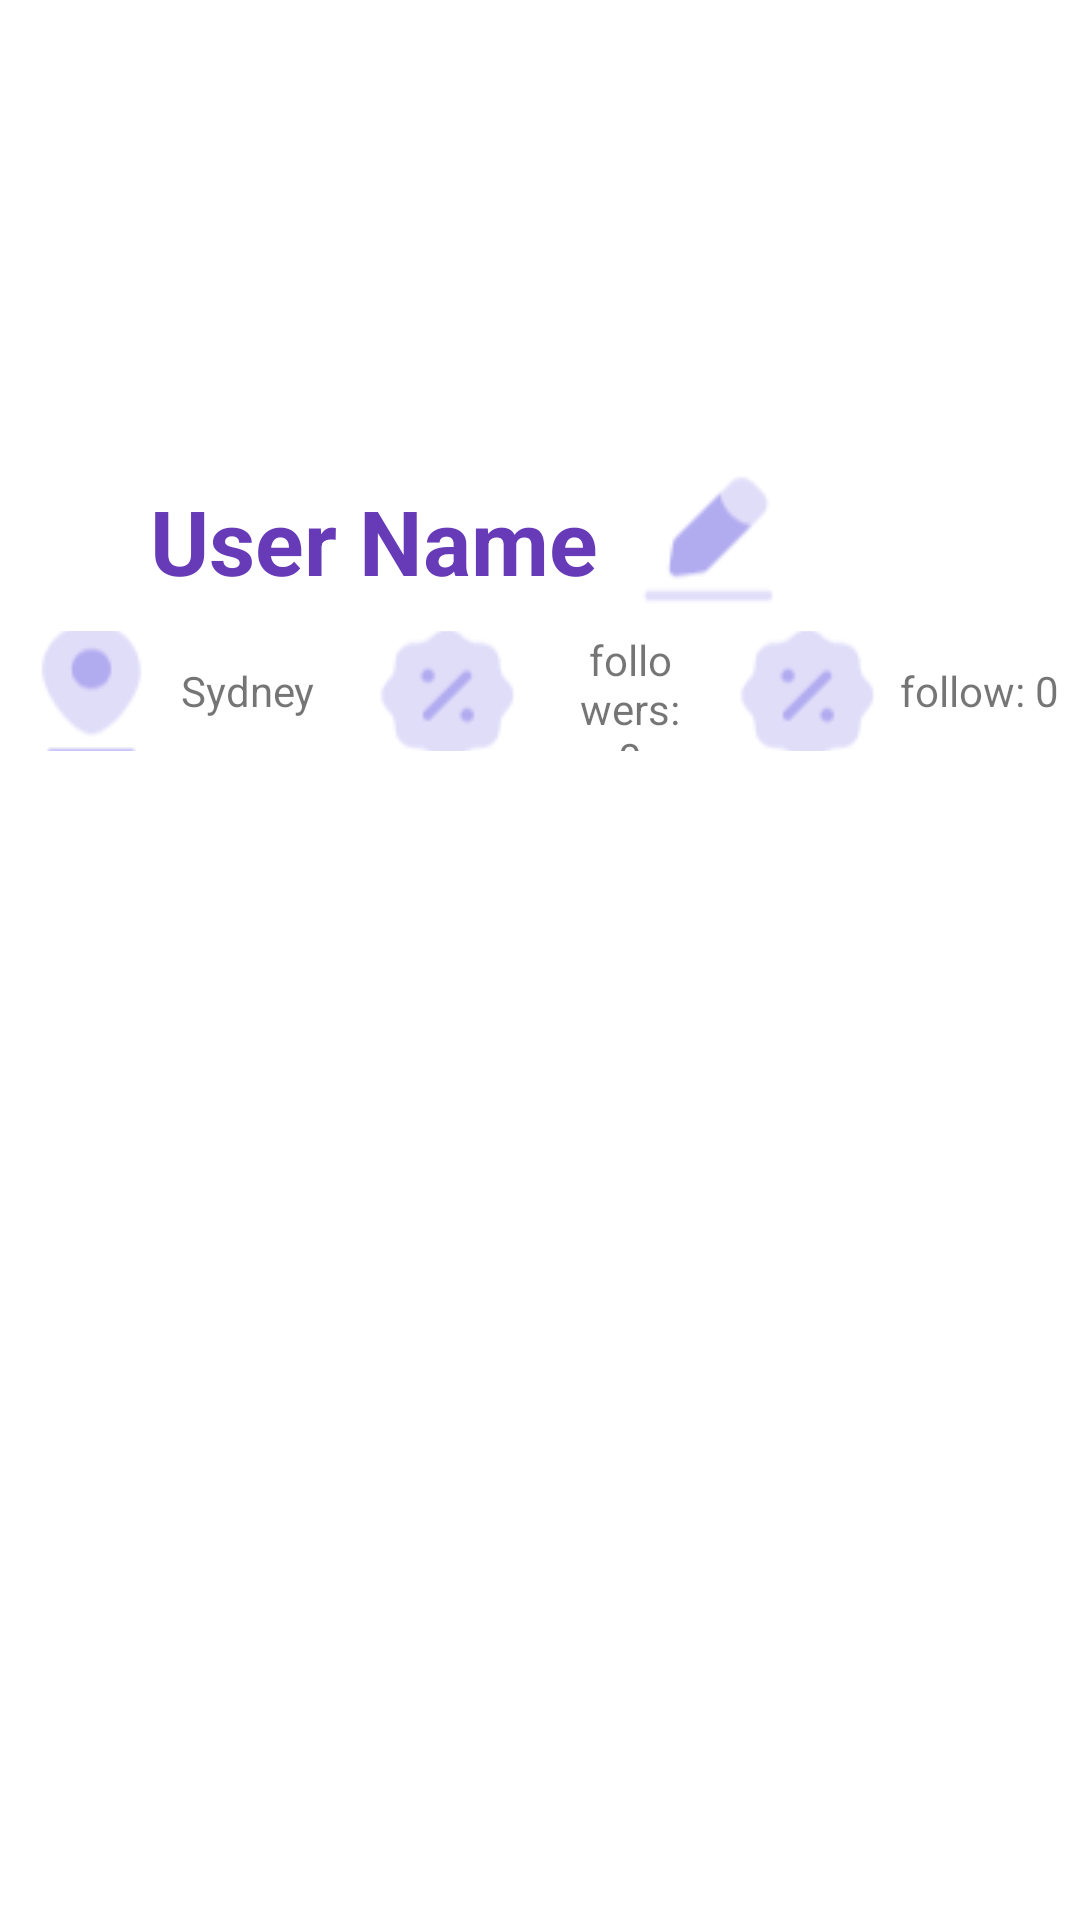

Named icons in this screenshot (1080x1920) and their centers, [x,y]:
modify: [708,539]
